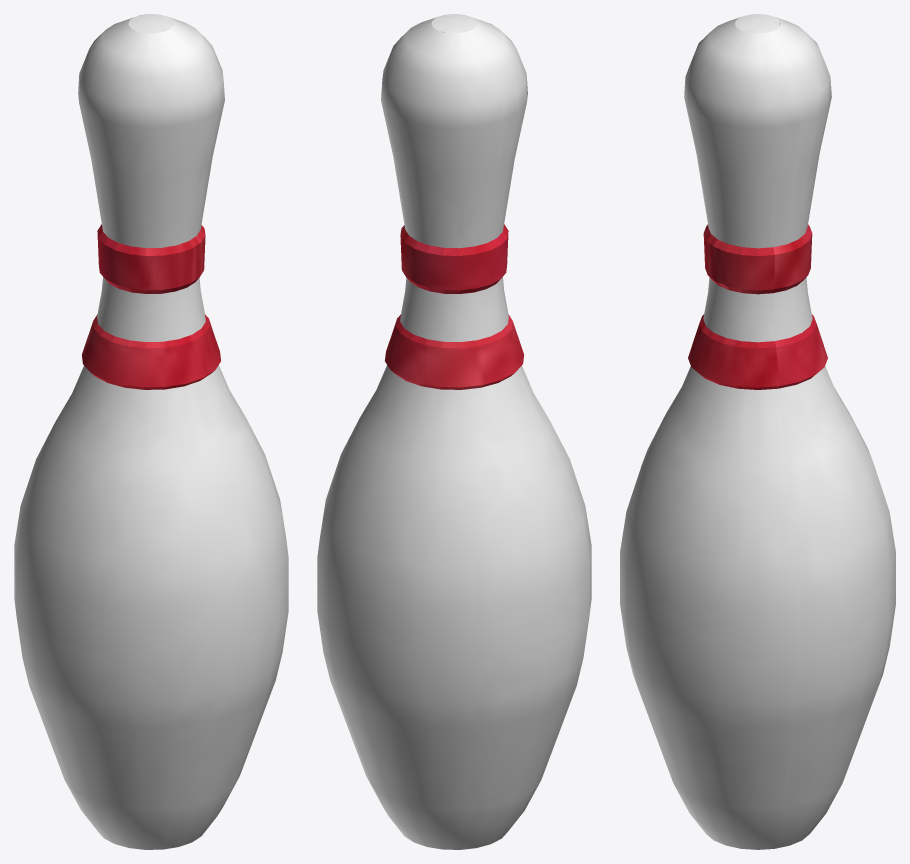
Rendered from BowlingPinFBX.fbx.
3 renders of one model, left to right at view 1: azimuth 30°, elevation 25°; view 2: azimuth 150°, elevation 25°; view 3: azimuth 270°, elevation 25°, orthographic.
Visible parts, largest first — view 1: pCylinder1; view 2: pCylinder1; view 3: pCylinder1.
Boxes of the visible parts, x1=… form: pCylinder1: x1=14, y1=14, x2=288, y2=849; pCylinder1: x1=317, y1=14, x2=591, y2=849; pCylinder1: x1=620, y1=14, x2=895, y2=849.
Bounding box in the file's own units: 2.63 × 8.49 × 2.63.
